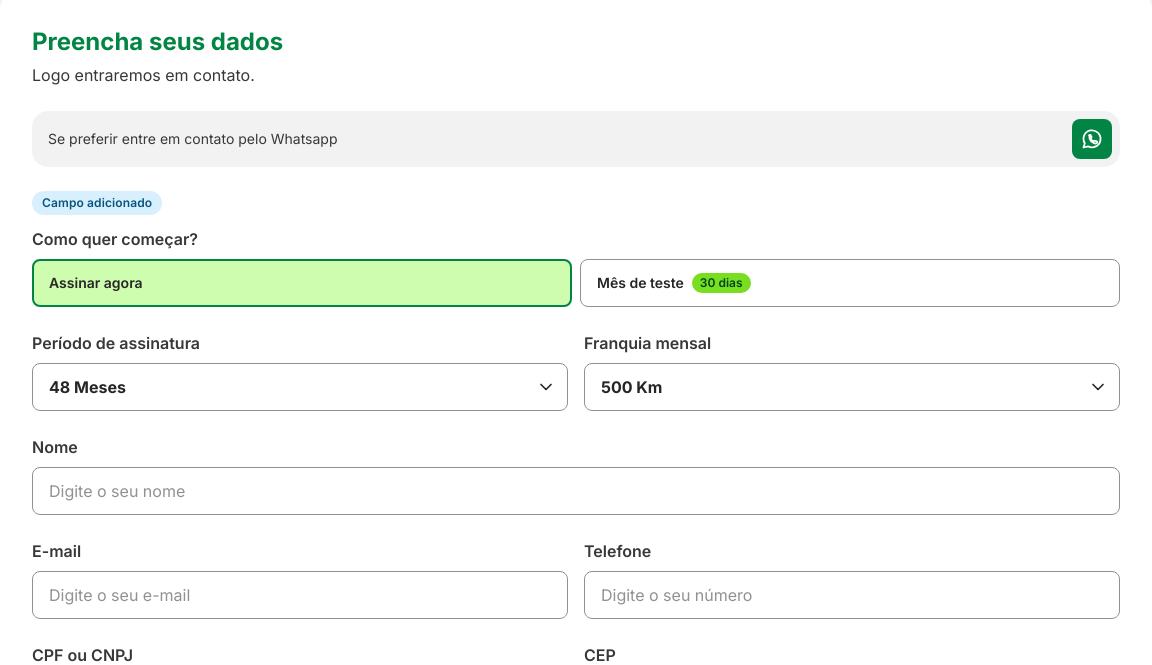
Test: QuoteForm › mantém o envio desabilitado até o formulário ficar válido
The width and height of the screenshot is (1152, 665).
In the field labelled "Nome": (576, 491) [32,467,1120,515], type "Ana Souza"
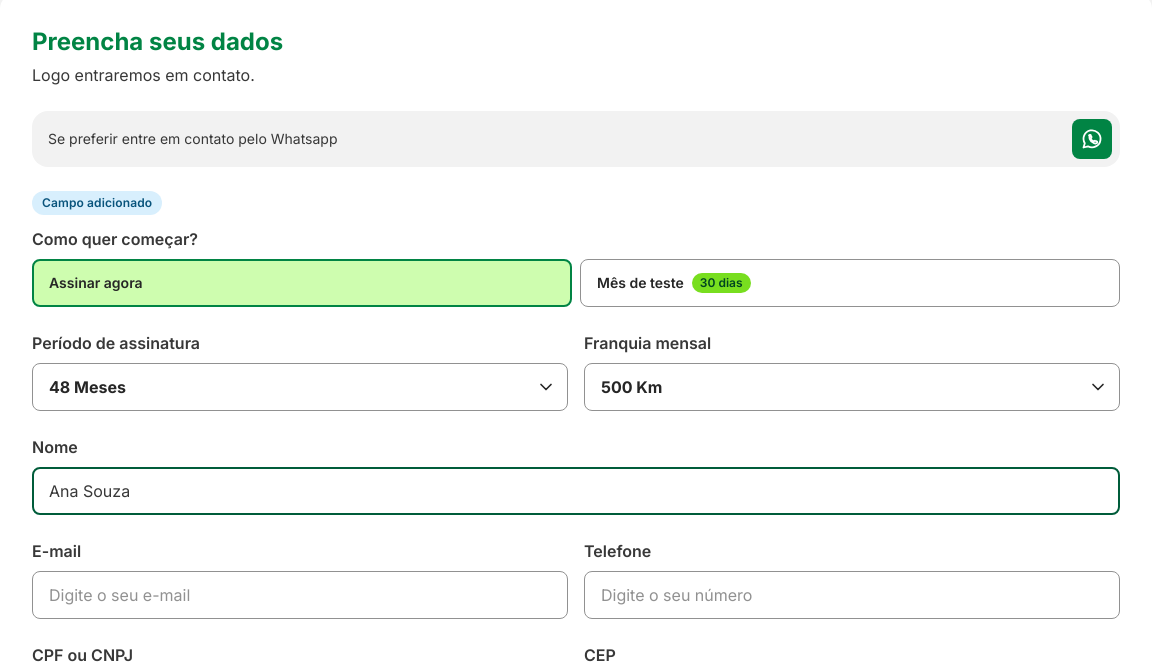
In the field labelled "E-mail": (300, 595) [32,571,568,619], type "ana@exemplo.com"
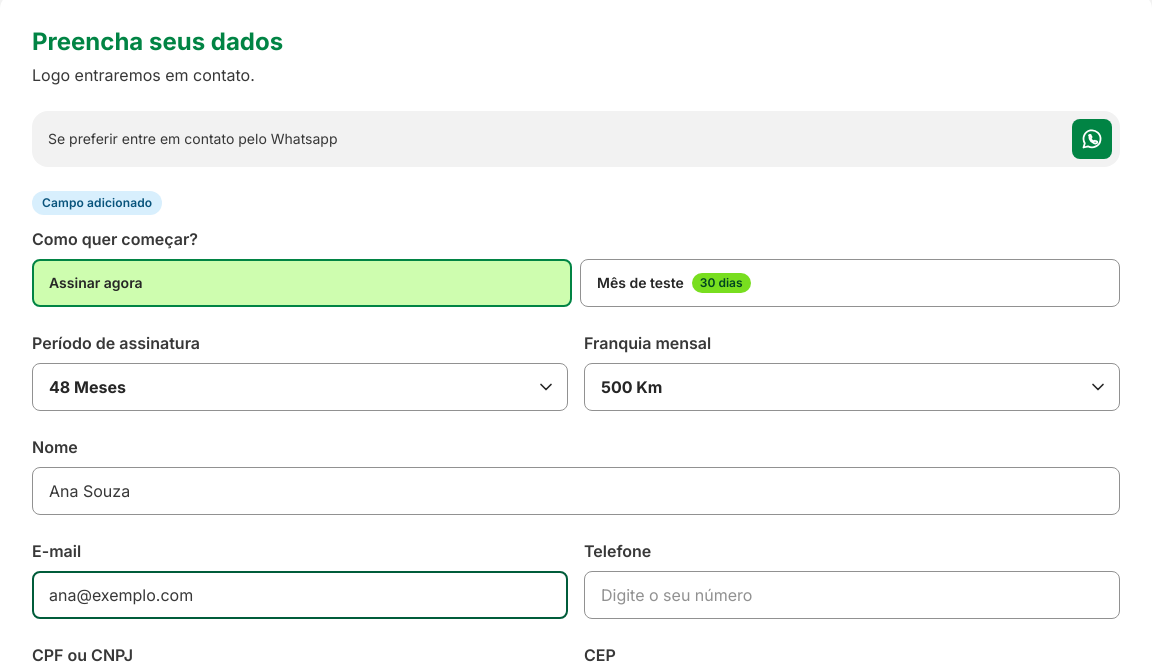
In the field labelled "Telefone": (852, 595) [584,571,1120,619], type "41999998888"
(page scrolled)
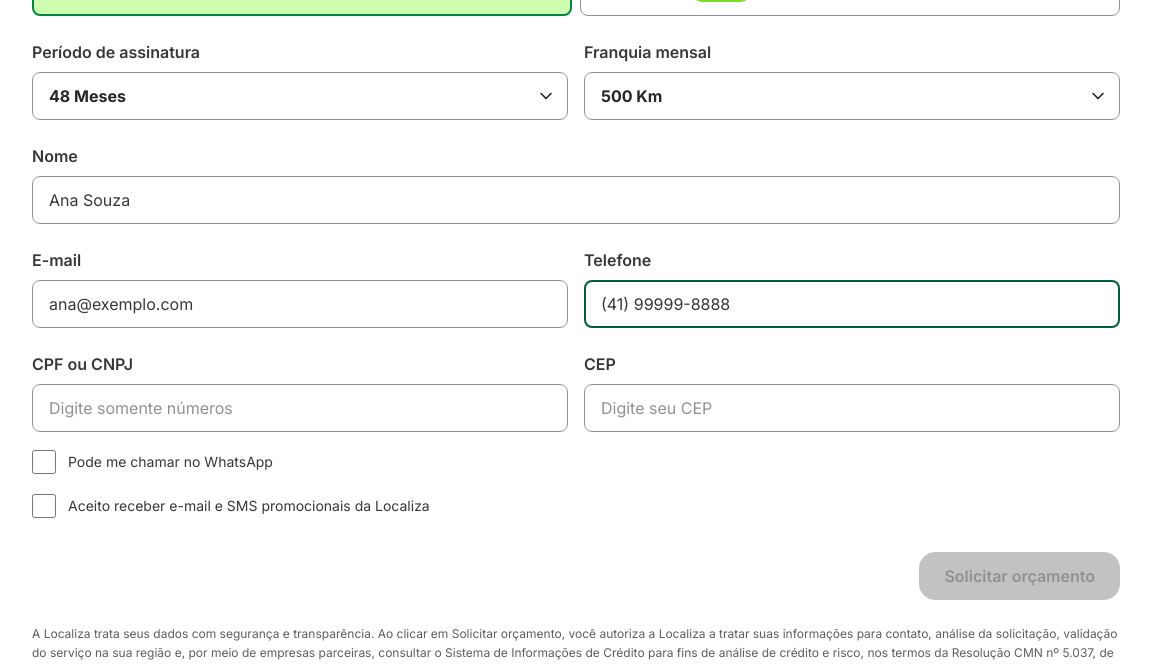
In the field labelled "CPF ou CNPJ": (300, 408) [32,384,568,432], type "12345678901"
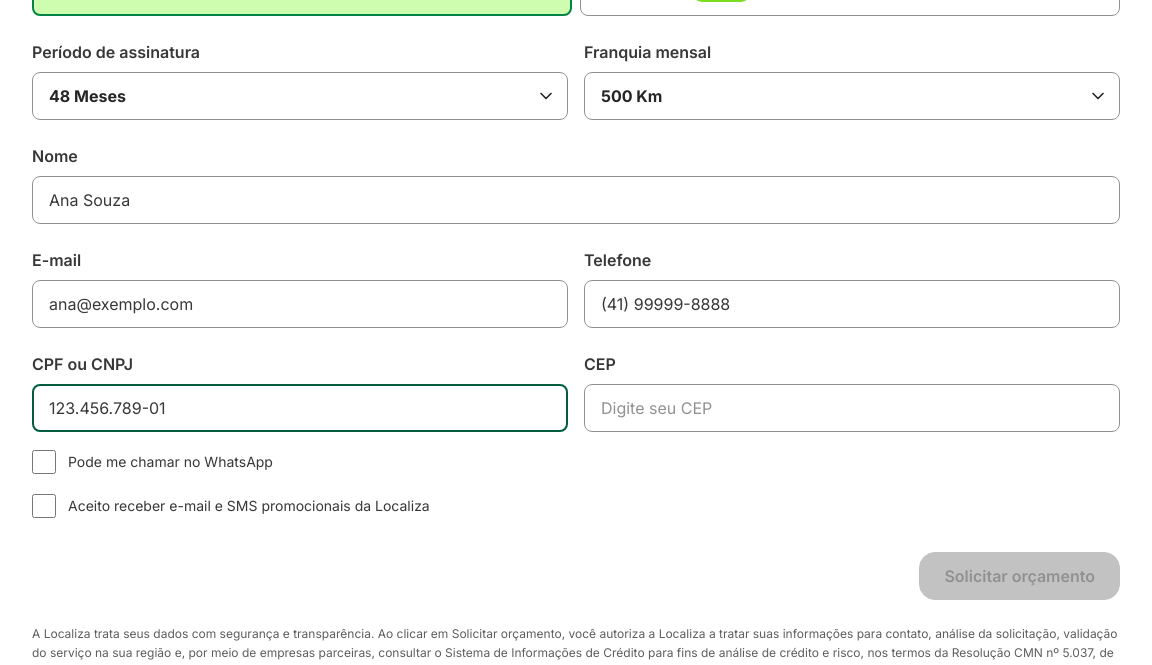
In the field labelled "CEP": (852, 408) [584,384,1120,432], type "80000000"
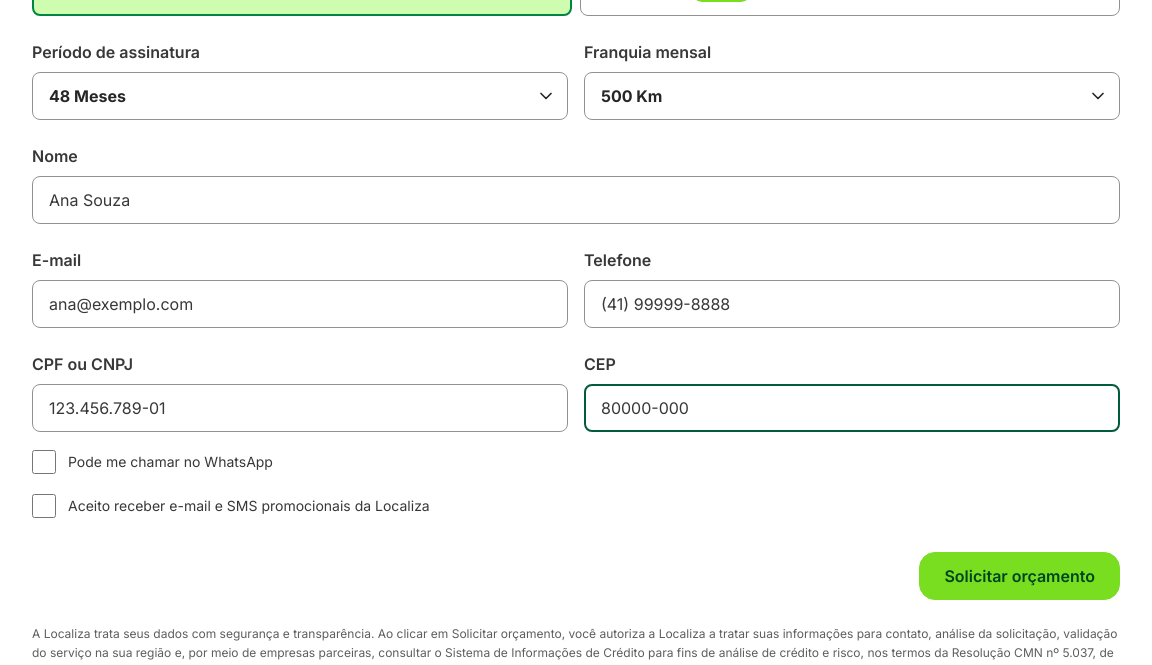
expect the field labelled "Telefone" holds "(41) 99999-8888": met, box [584,280,1120,328]
expect the field labelled "CPF ou CNPJ" holds "123.456.789-01": met, box [32,384,568,432]
expect the field labelled "CEP" holds "80000-000": met, box [584,384,1120,432]
